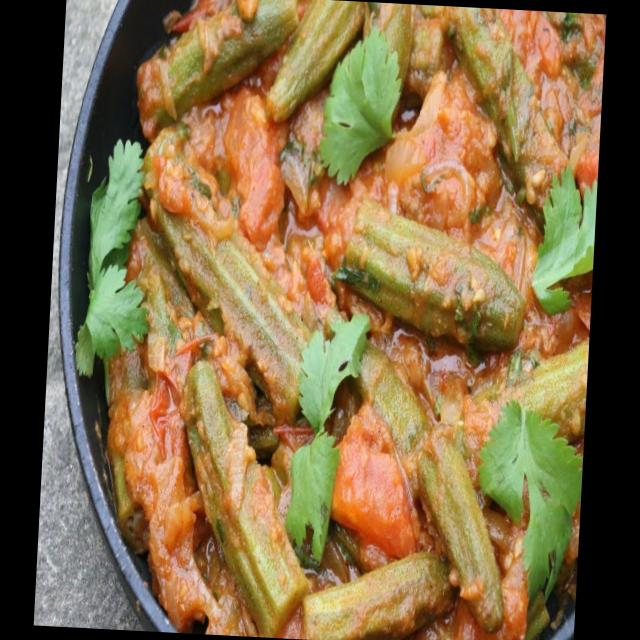BhindiMasala: (94, 0, 605, 640)
